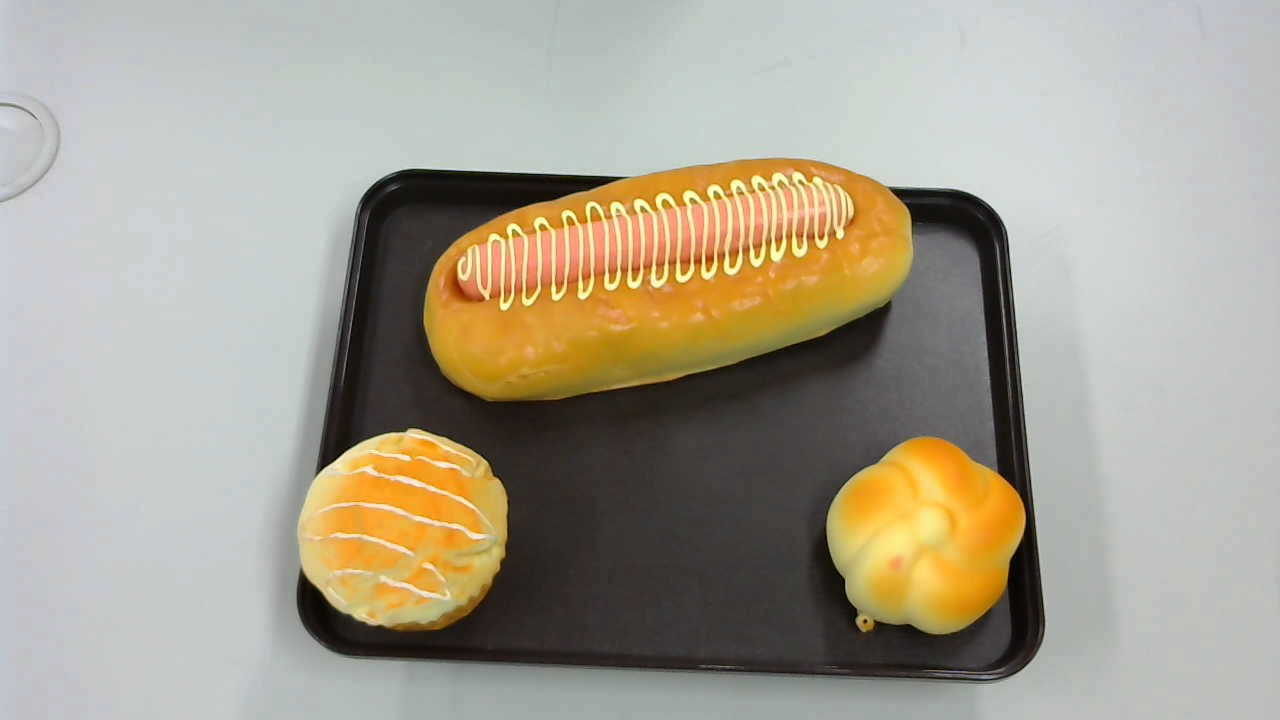croissant: (825, 437, 1025, 634)
cupcake: (297, 427, 510, 635)
hot dog: (421, 159, 915, 405)
